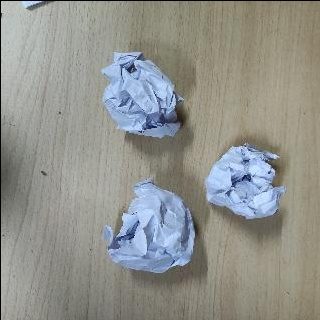8/可回收垃圾/纸: (103, 179, 196, 274), (100, 51, 185, 139), (205, 145, 285, 220)
